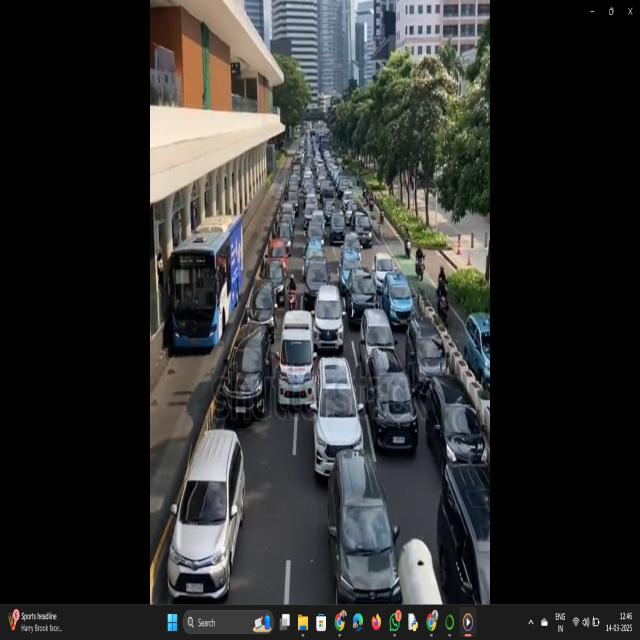Ambulance: (276, 303, 320, 417)
